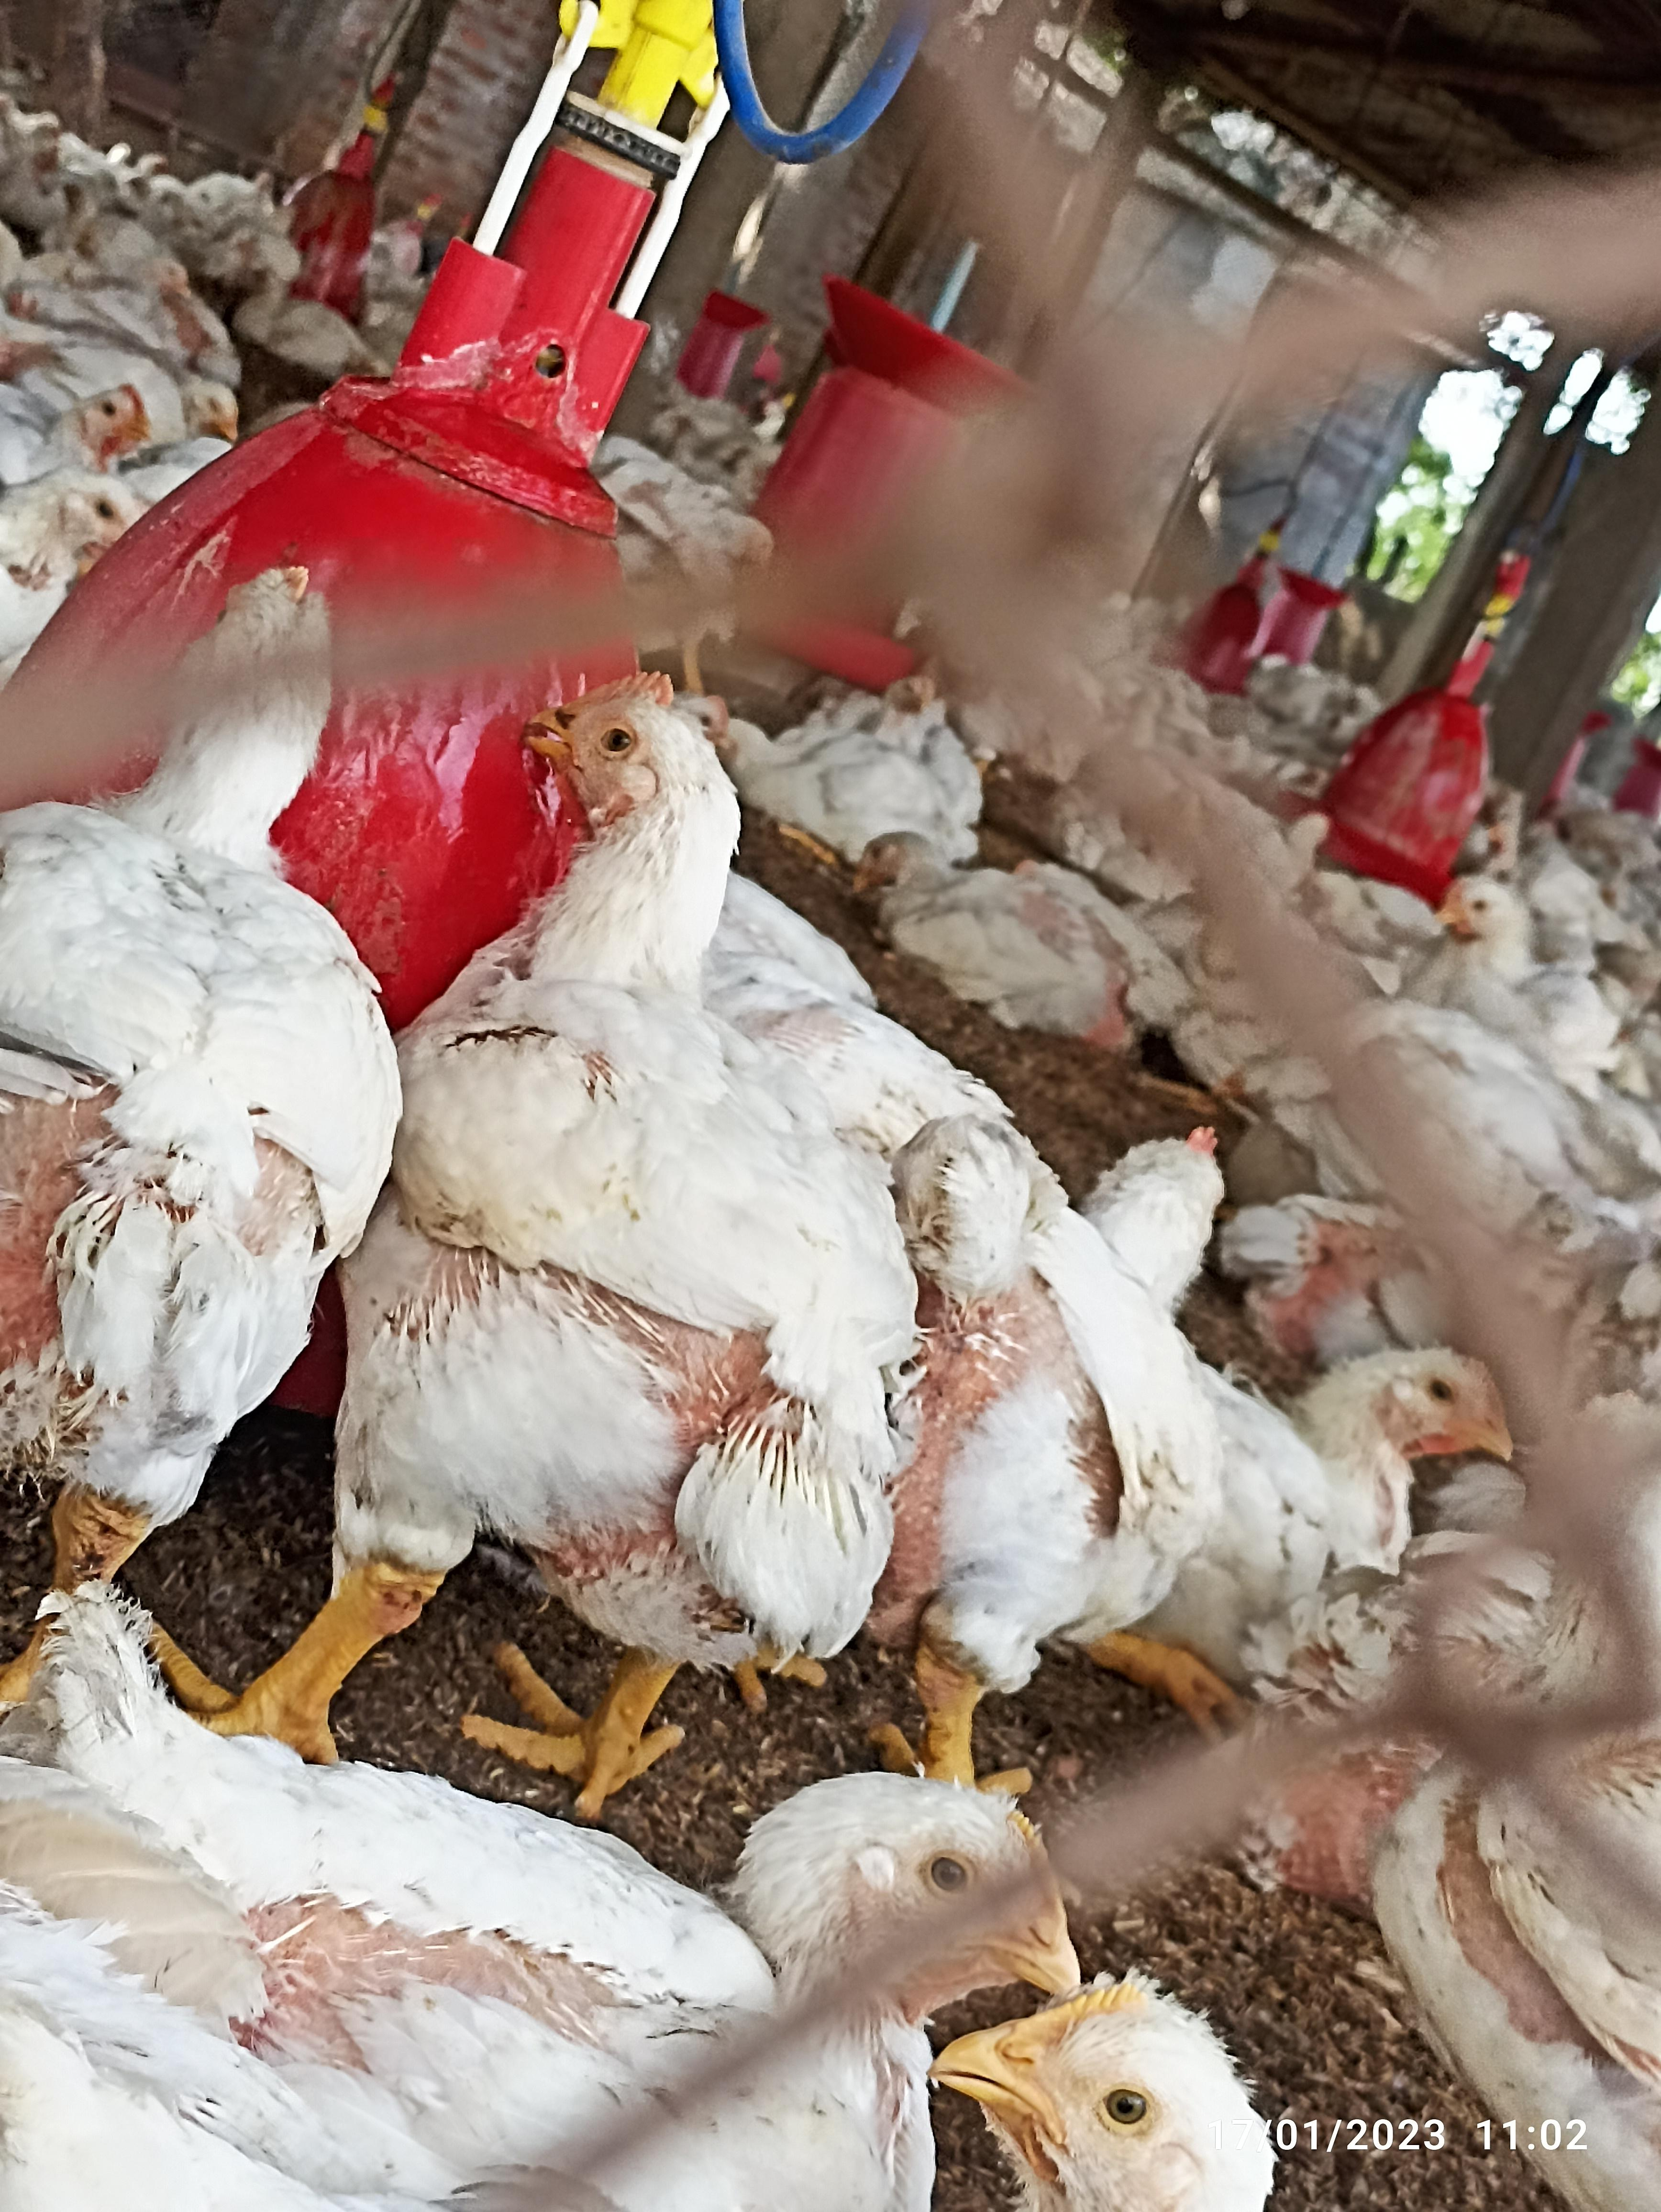Pollos: (407, 675, 858, 1685), (26, 1736, 1118, 2067), (31, 579, 342, 1450), (839, 1123, 1253, 1533), (851, 813, 1169, 1069), (1209, 1326, 1534, 1575), (1408, 864, 1541, 1005)
